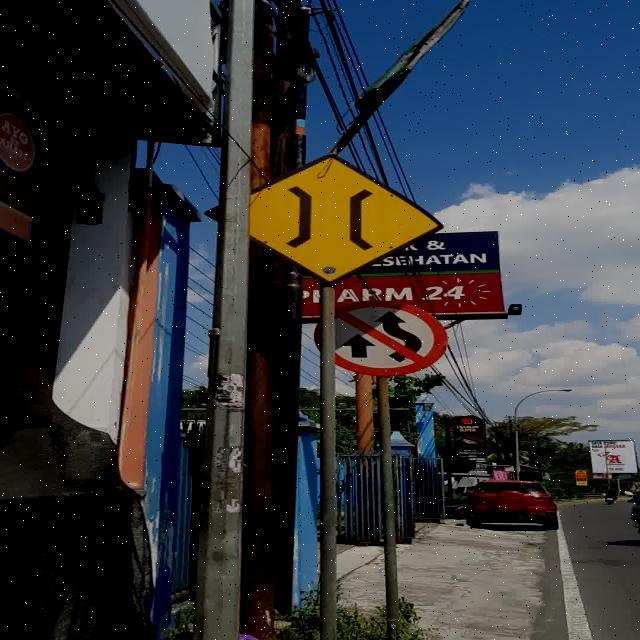Dilarang Mendahului: (338, 300, 448, 376)
